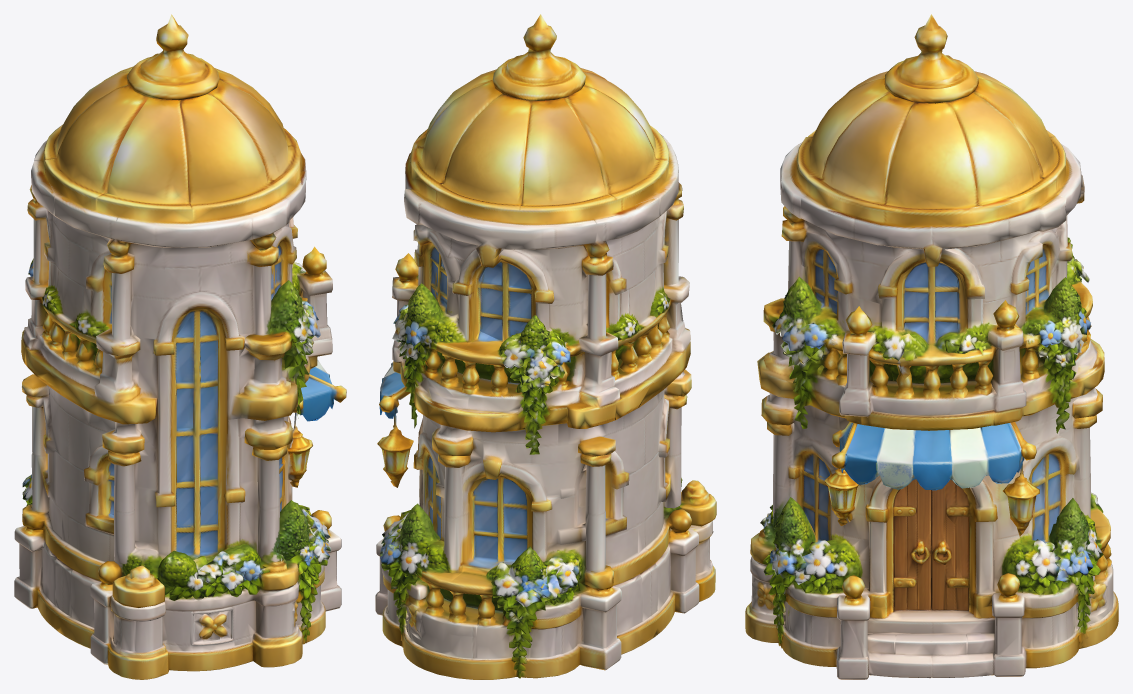
Rendered from HaloDomeHouse_06_HD_src.glb.
3 renders of one model, left to right at view 1: azimuth 30°, elevation 25°; view 2: azimuth 150°, elevation 25°; view 3: azimuth 270°, elevation 25°, orthographic. The views are drawn at different scales.
Parts seen in each view (by area): view 1: tripo_node_f1957e2c-7e49-4e94-8519-e51706038a06; view 2: tripo_node_f1957e2c-7e49-4e94-8519-e51706038a06; view 3: tripo_node_f1957e2c-7e49-4e94-8519-e51706038a06.
Part boxes in pixels (left/top/right/bottom): tripo_node_f1957e2c-7e49-4e94-8519-e51706038a06: left=14, top=14, right=346, bottom=679; tripo_node_f1957e2c-7e49-4e94-8519-e51706038a06: left=375, top=14, right=716, bottom=679; tripo_node_f1957e2c-7e49-4e94-8519-e51706038a06: left=745, top=14, right=1118, bottom=679.
Size of the model in its own units: 0.4471 by 0.9806 by 0.5493.
1 material, 1 textured.
